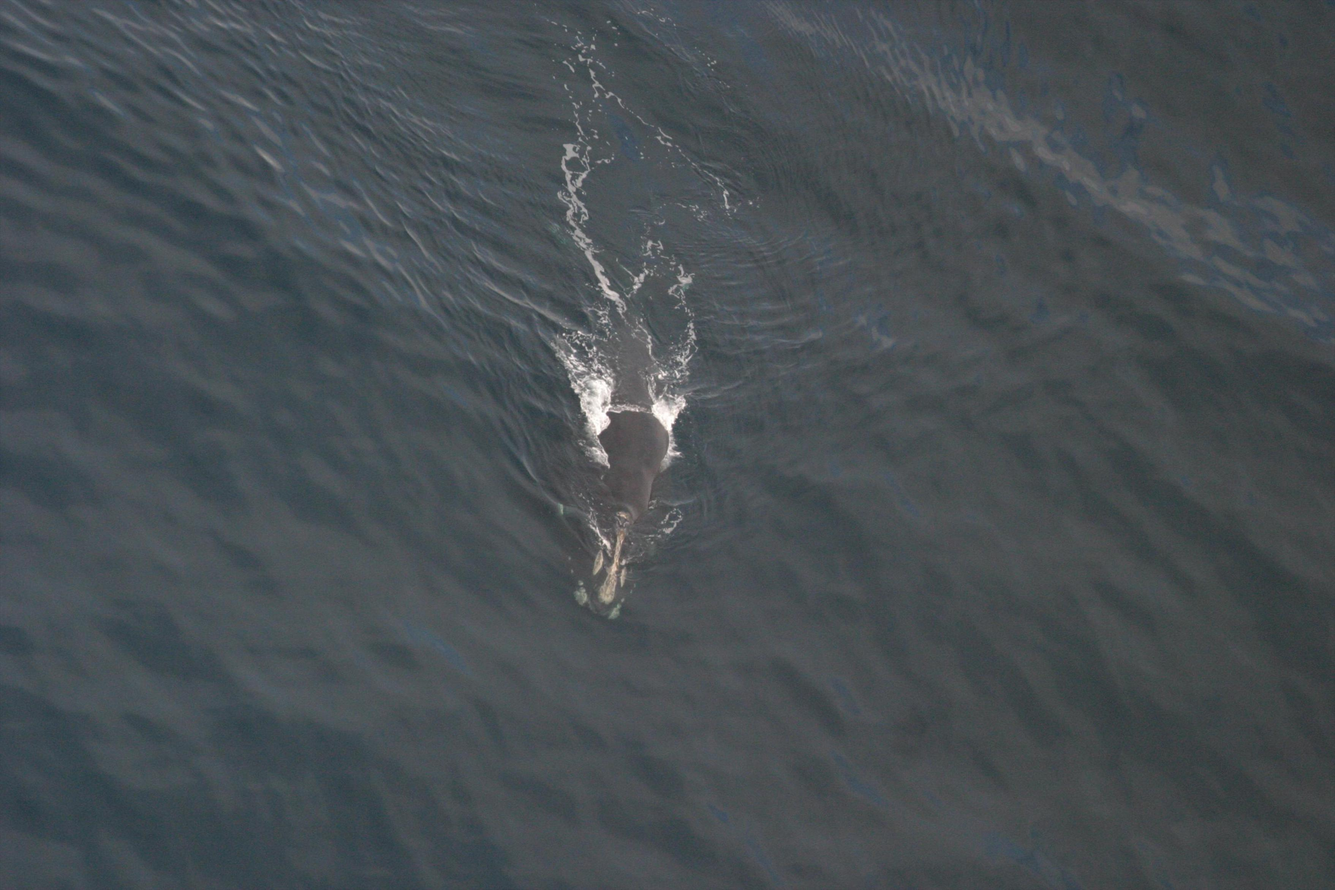whale: (490, 173, 730, 628)
